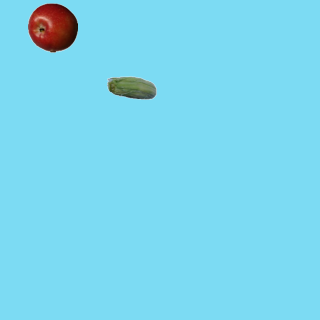Apple Braeburn: (27, 2, 77, 52)
Corn Husk: (106, 64, 156, 114)
